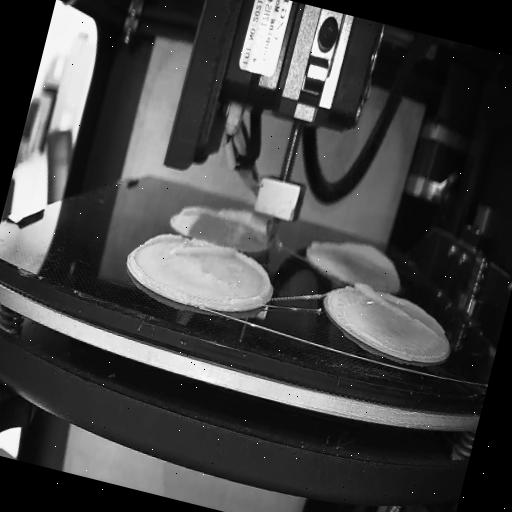over_extrusion: (346, 279, 446, 336), (306, 226, 402, 276), (178, 194, 268, 234), (224, 250, 277, 314), (174, 231, 234, 267), (142, 226, 176, 252)
